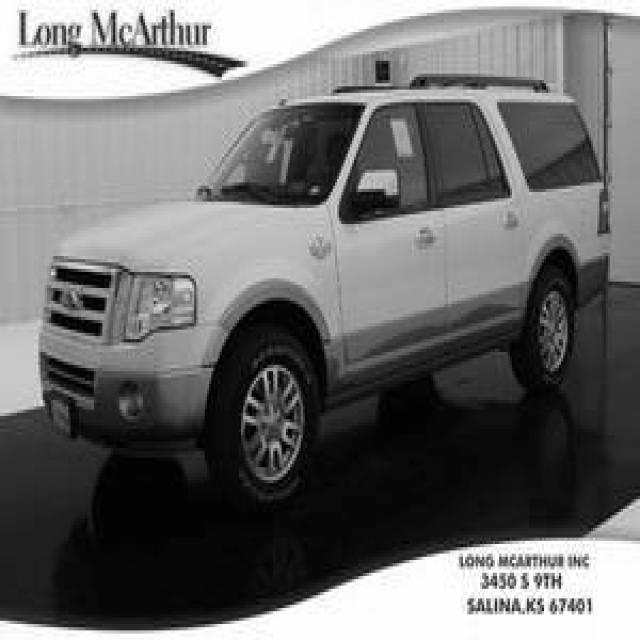car: (37, 70, 612, 512)
